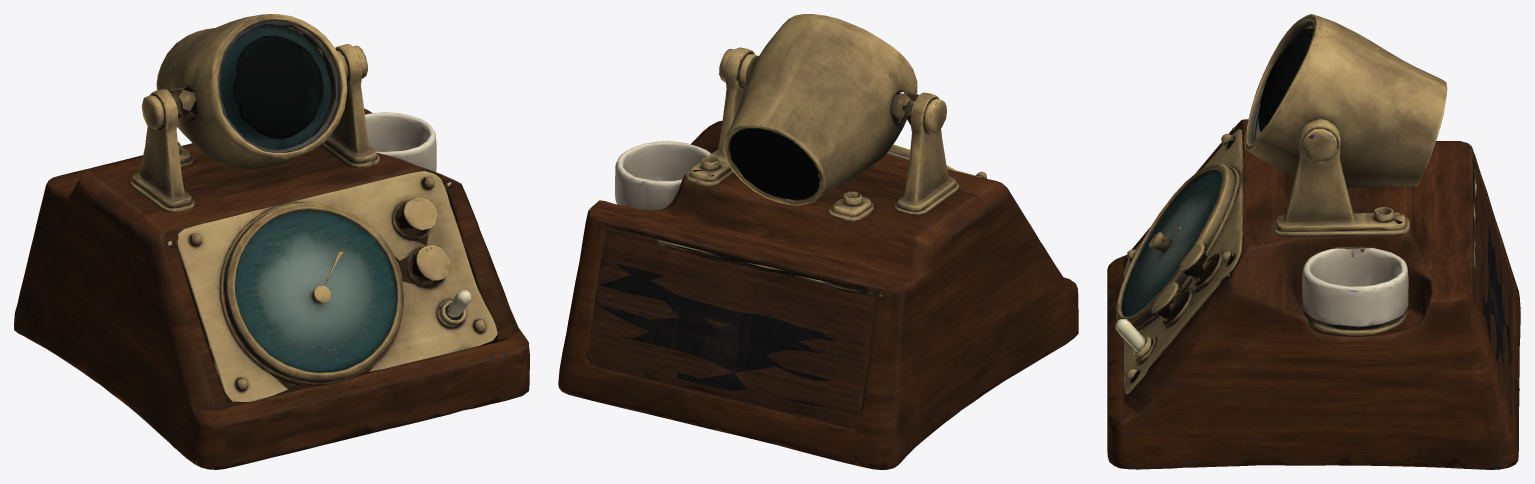
Rendered from instrument-trellis.glb.
3 renders of one model, left to right at view 1: azimuth 30°, elevation 25°; view 2: azimuth 150°, elevation 25°; view 3: azimuth 270°, elevation 25°, orthographic. The views are drawn at different scales.
Parts seen in each view (by area): view 1: world; view 2: world; view 3: world.
Part boxes in pixels (<box>): world: <box>14,14,529,469</box>; world: <box>558,14,1078,469</box>; world: <box>1107,14,1520,469</box>.
Bounding box in the file's own units: 0.9909 × 0.9569 × 0.9999.
1 material, 1 textured.
